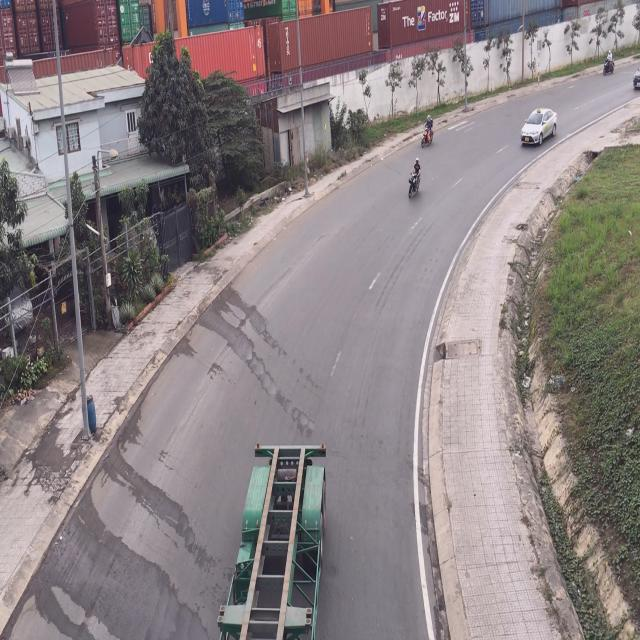car: (518, 106, 557, 148)
motorbike: (408, 160, 425, 205), (421, 113, 435, 150), (601, 48, 615, 76)
truck: (215, 440, 329, 640)
